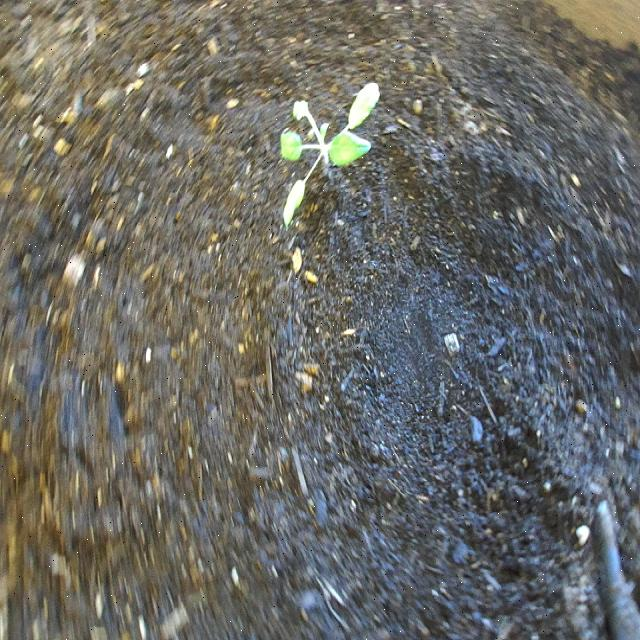Healthy: (279, 80, 382, 232)
